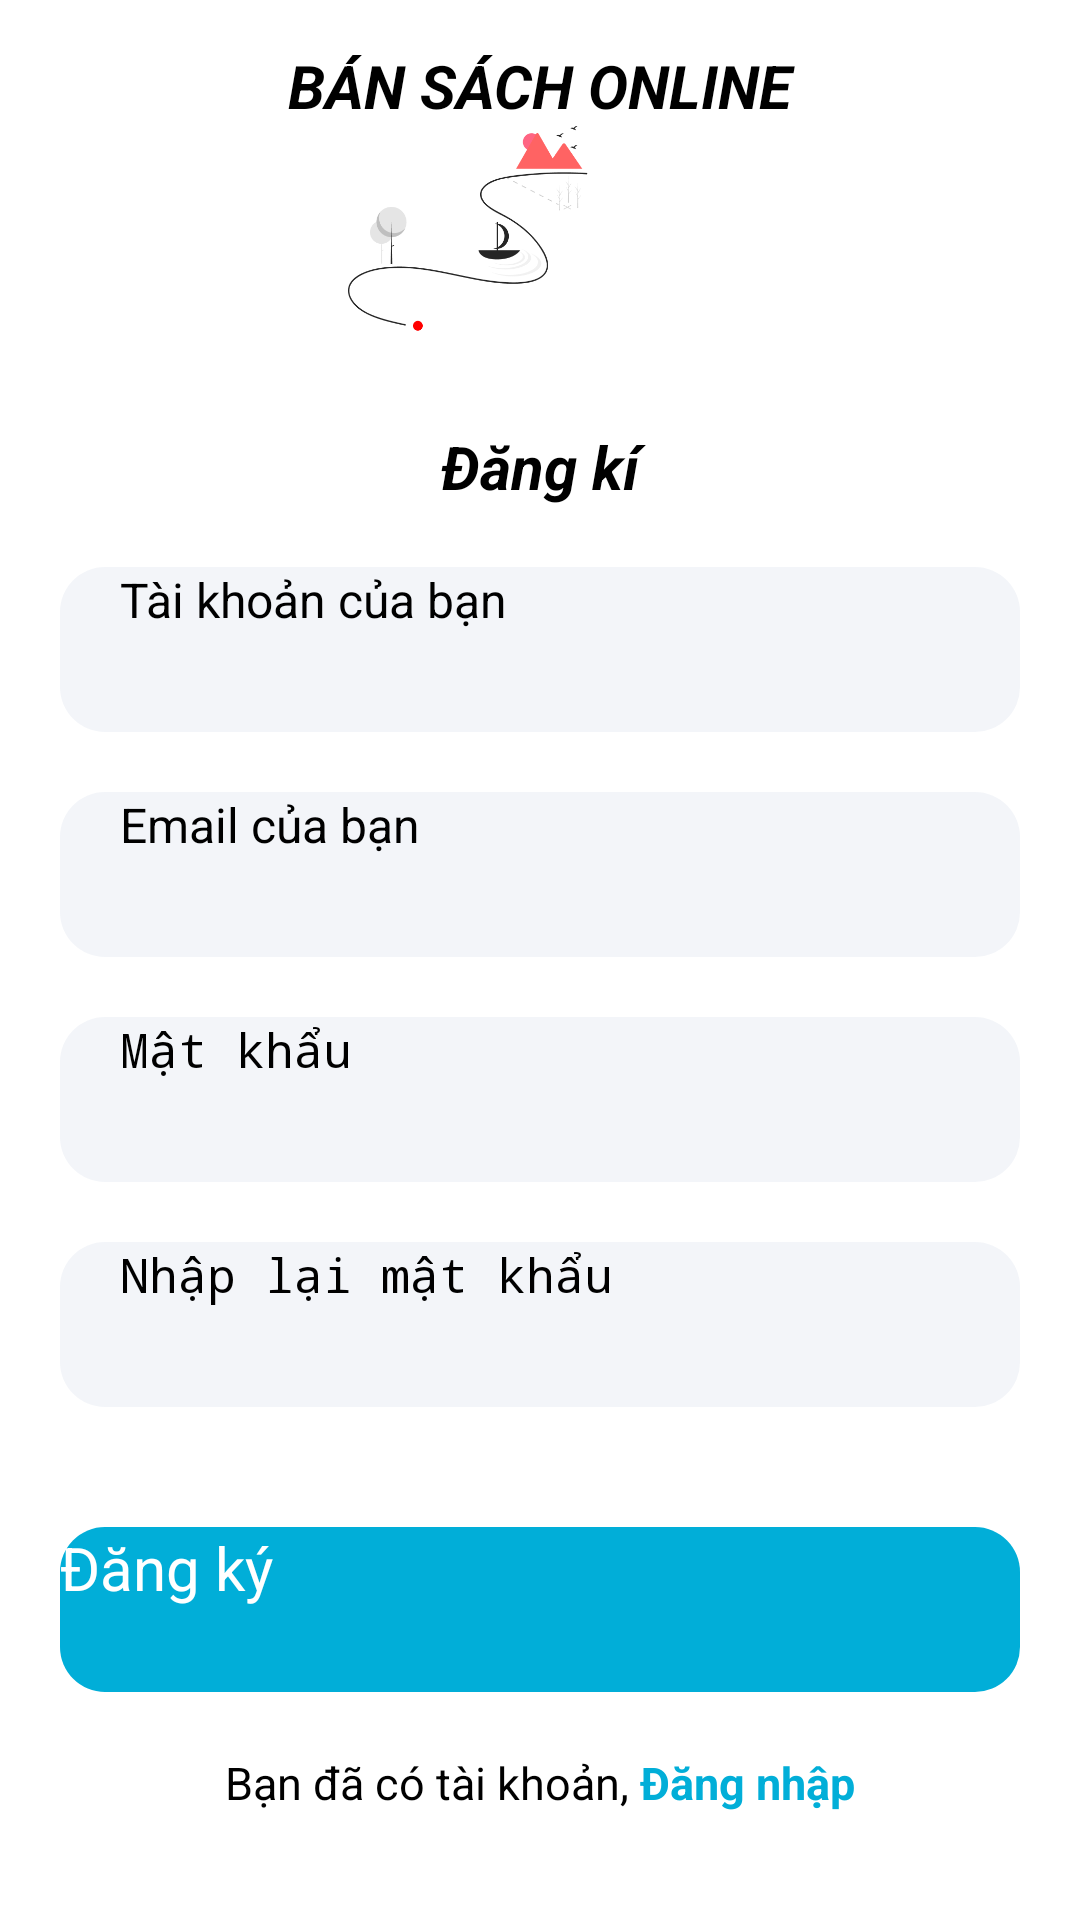

Icons on this 1080x1920 Android screen, each with the point to tap as point (x, y):
nendangnhap: point (468, 228)
